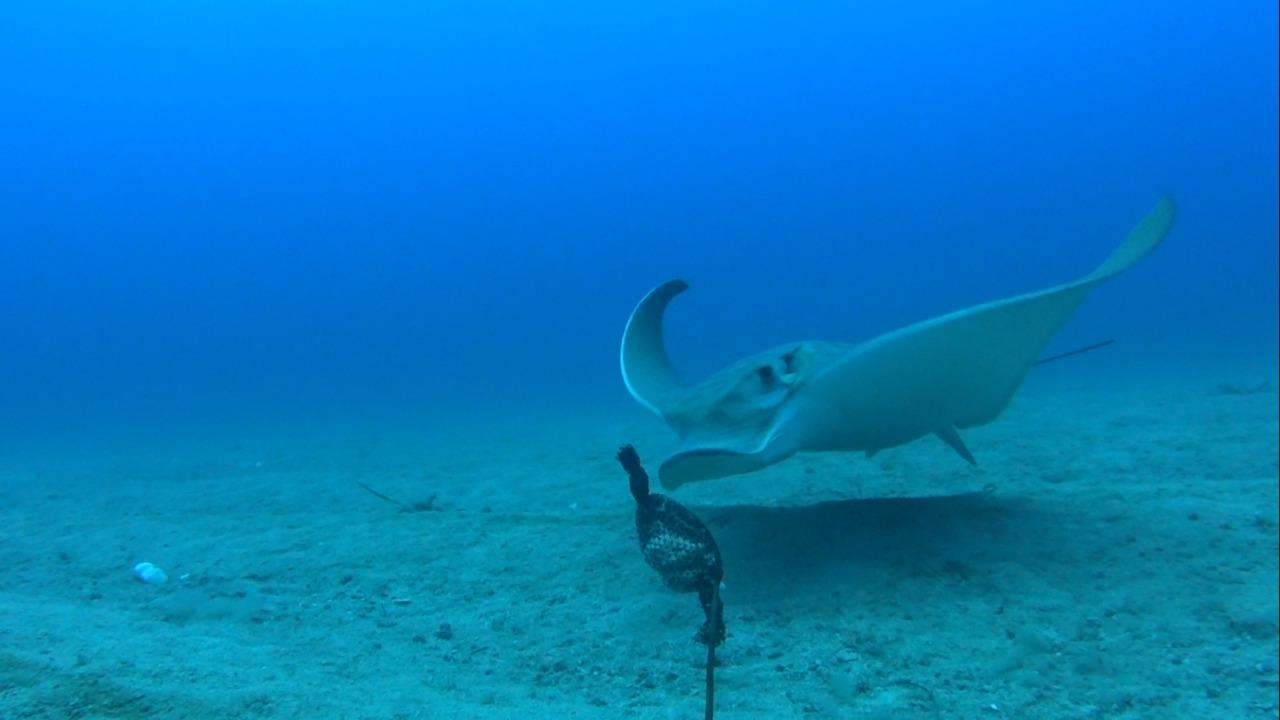myliobatis: (613, 190, 1186, 494)
